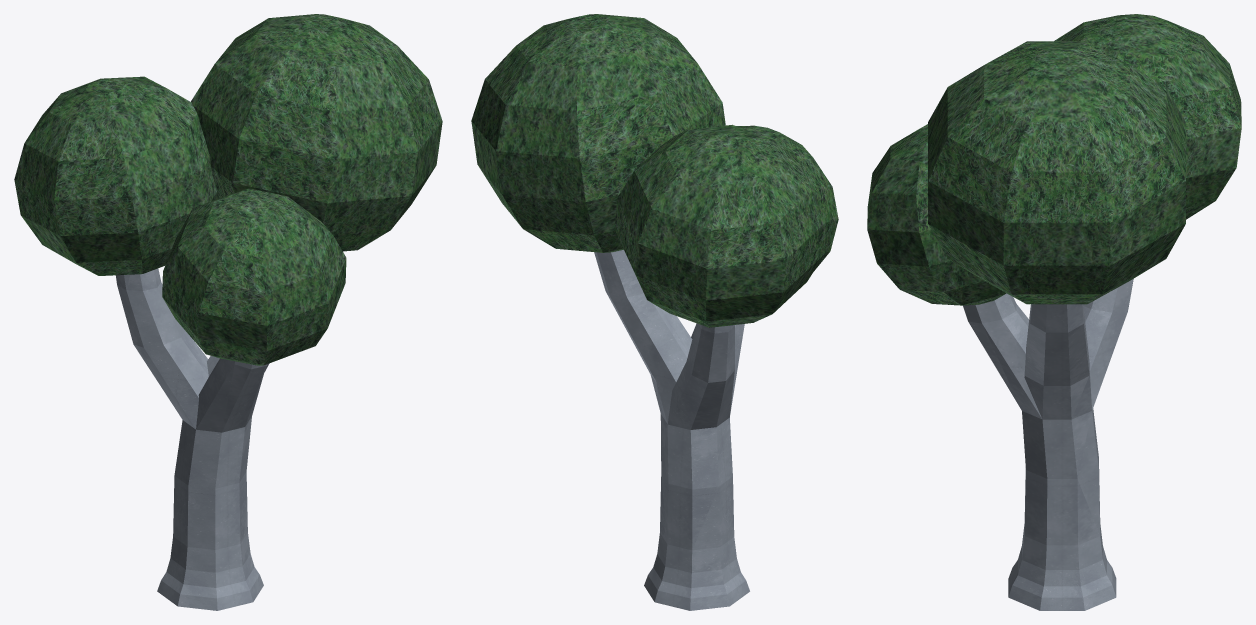
The model's file is Oak_Tree_4.fbx.
3 renders of one model, left to right at view 1: azimuth 30°, elevation 25°; view 2: azimuth 150°, elevation 25°; view 3: azimuth 270°, elevation 25°, orthographic. The views are drawn at different scales.
Parts seen in each view (by area): view 1: Tree_Oak_4; view 2: Tree_Oak_4; view 3: Tree_Oak_4.
Boxes of the visible parts, x1,y1,x2,y2 form: Tree_Oak_4: (14, 14, 442, 610); Tree_Oak_4: (471, 14, 838, 610); Tree_Oak_4: (867, 14, 1241, 610).
Size of the model in its own units: 33.63 by 49.96 by 28.87.
